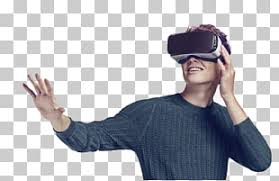oculus: (168, 29, 231, 70)
